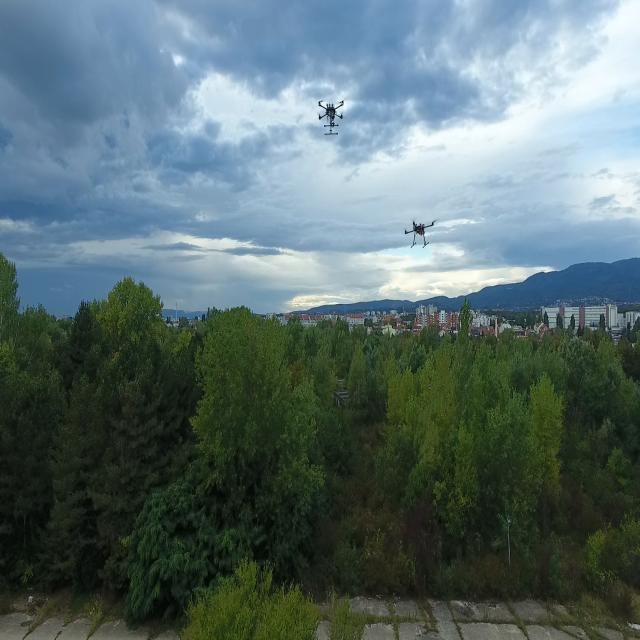UAV: (391, 213, 448, 251), (312, 88, 350, 140)
